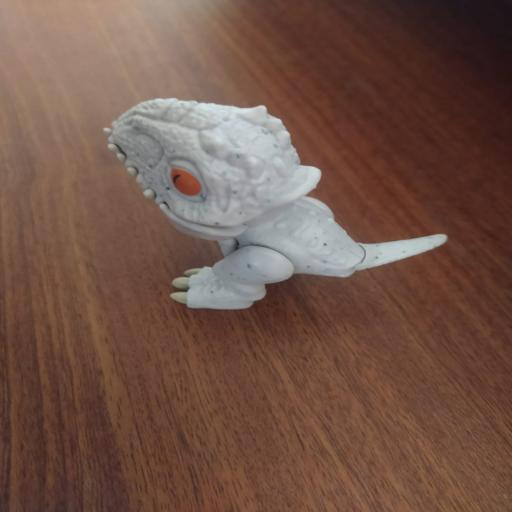Dinosaurio: (98, 92, 458, 323)
